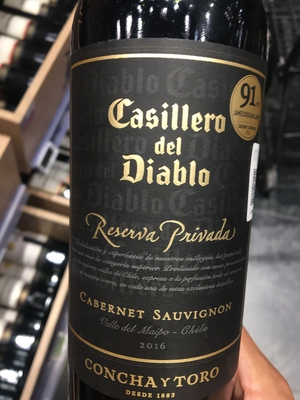casillero del diablo reserva privada cabernet sauvignon: (54, 8, 275, 400)
